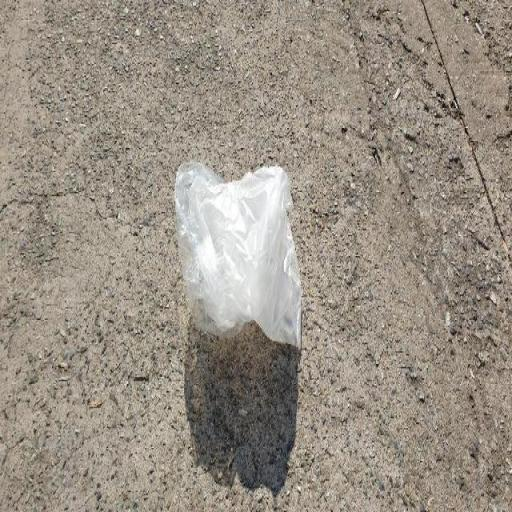plastic-bag: (174, 156, 304, 352)
